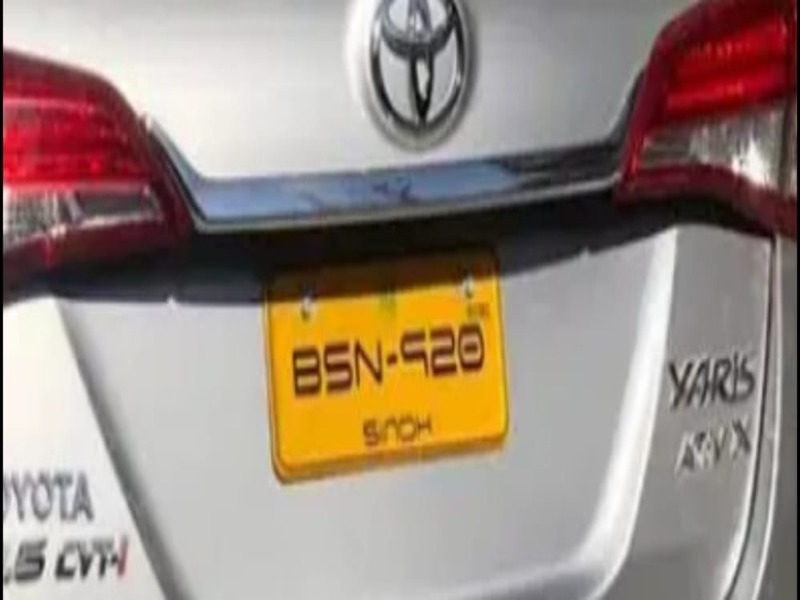License Plate: (257, 264, 514, 487)
